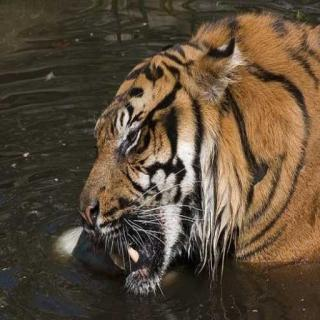Tiger: (82, 0, 320, 290)
